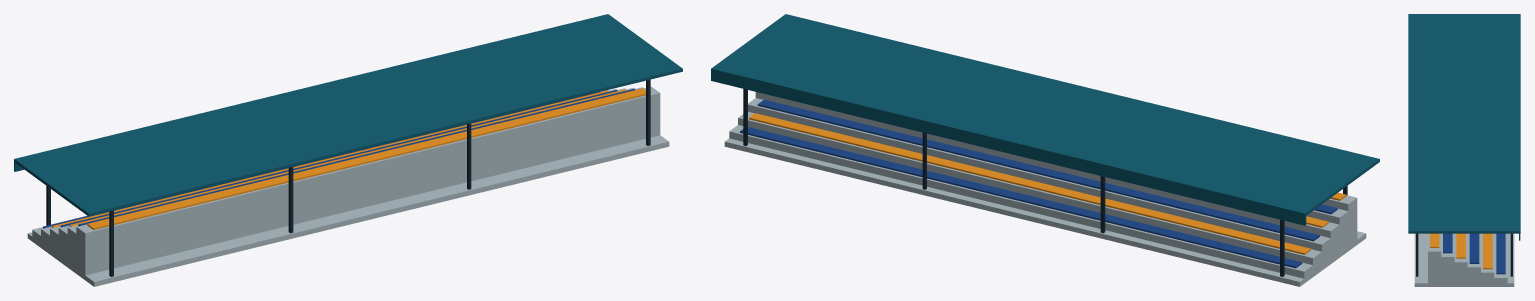
The model's file is grandstand.glb.
3 renders of one model, left to right at view 1: azimuth 30°, elevation 25°; view 2: azimuth 150°, elevation 25°; view 3: azimuth 270°, elevation 25°, orthographic. The views are drawn at different scales.
Visible parts, largest first — view 1: Canopy, SteppedStructure, SeatingBands, CanopyFrame; view 2: Canopy, SteppedStructure, SeatingBands, FrontFascia, CanopyFrame; view 3: Canopy, SteppedStructure, SeatingBands, CanopyFrame.
Boxes of the visible parts, x1,y1,x2,y2 form: Canopy: (14, 14, 682, 216); SteppedStructure: (27, 86, 669, 286); SeatingBands: (43, 88, 645, 229); CanopyFrame: (46, 79, 650, 276); Canopy: (711, 14, 1379, 216); SteppedStructure: (724, 92, 1366, 286); SeatingBands: (740, 99, 1346, 268); FrontFascia: (711, 71, 1306, 225); CanopyFrame: (743, 89, 1347, 276); Canopy: (1408, 14, 1520, 233); SteppedStructure: (1414, 233, 1514, 286); SeatingBands: (1430, 233, 1505, 274); CanopyFrame: (1416, 233, 1512, 276).
Size of the model in its own units: 62 by 7.85 by 13.5.
